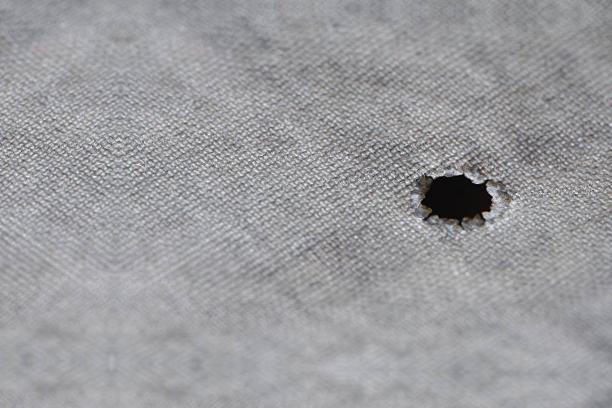hole: (411, 162, 515, 237)
